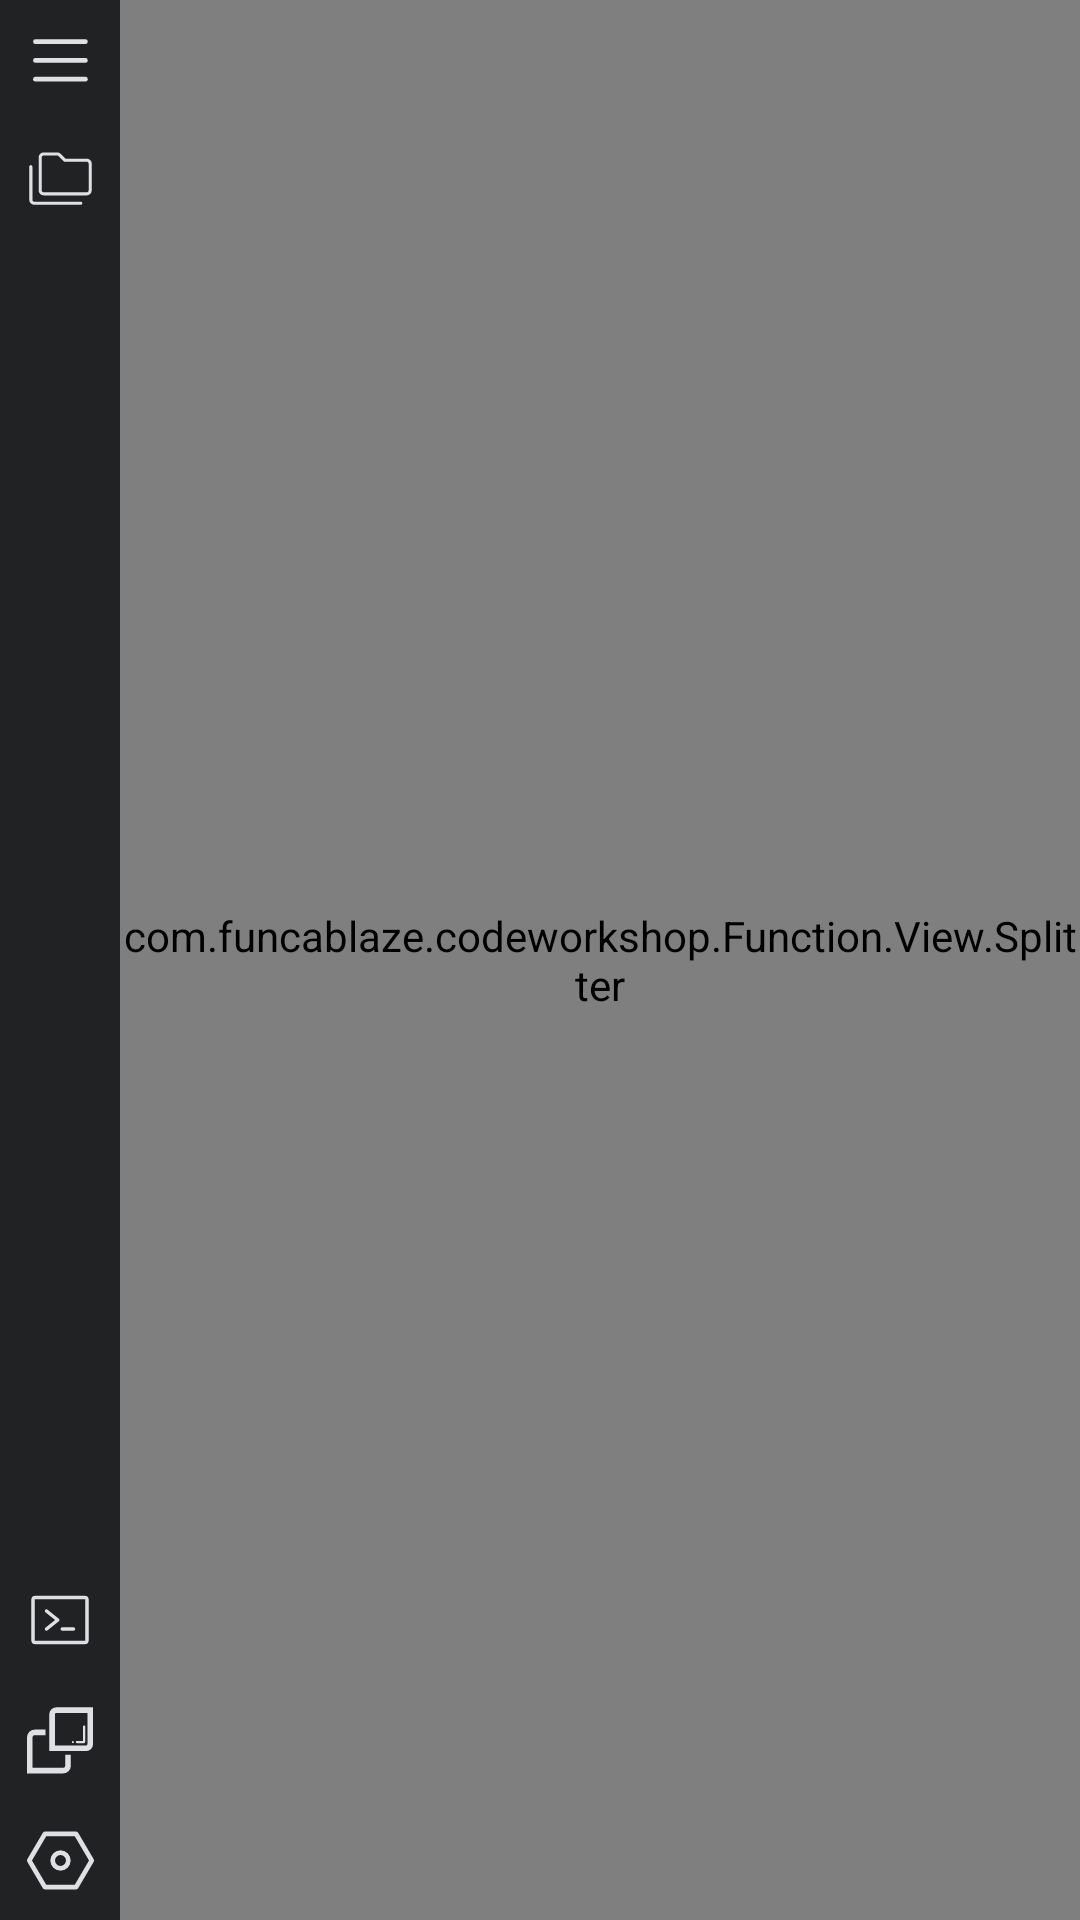

Screen size 1080 × 1920. Icon name, then its center in pixels as (x=x, y=y):
left folder: (x=60, y=178)
left menu: (x=60, y=60)
left setting: (x=60, y=1860)
left terminal: (x=60, y=1620)
left window: (x=60, y=1740)
